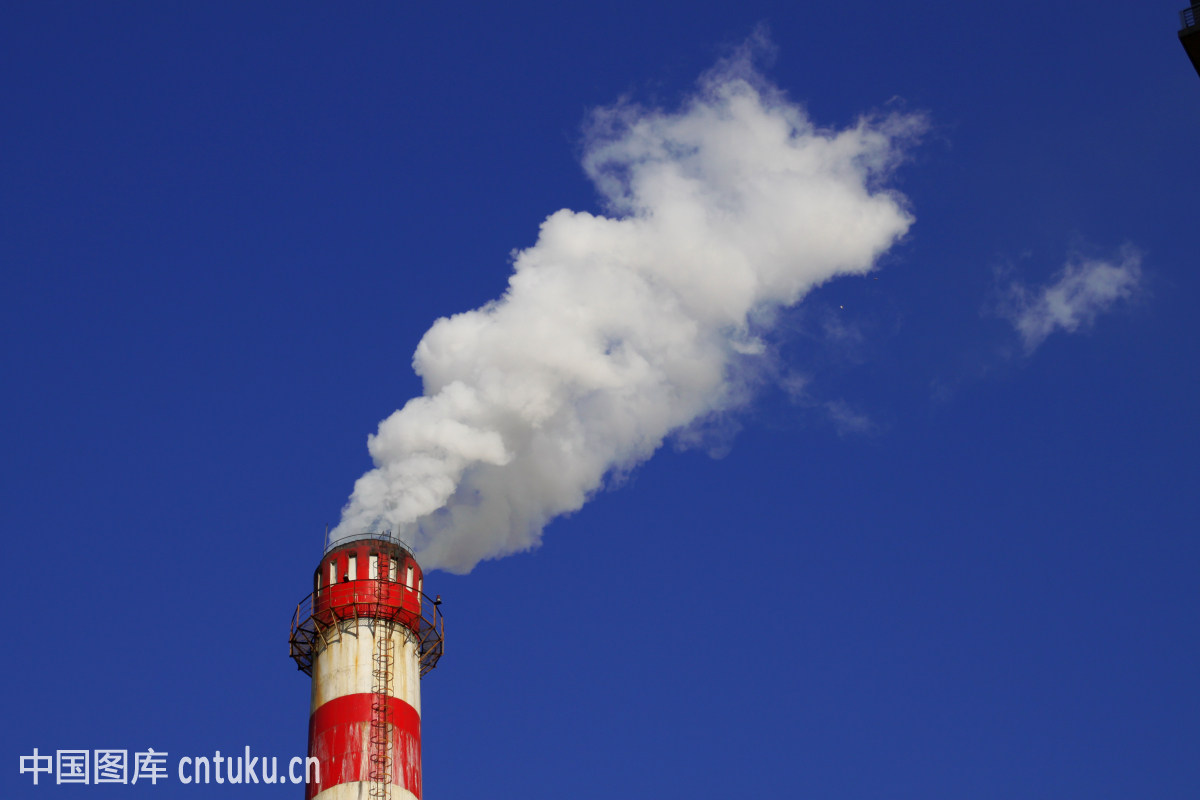dust: (322, 175, 866, 564)
